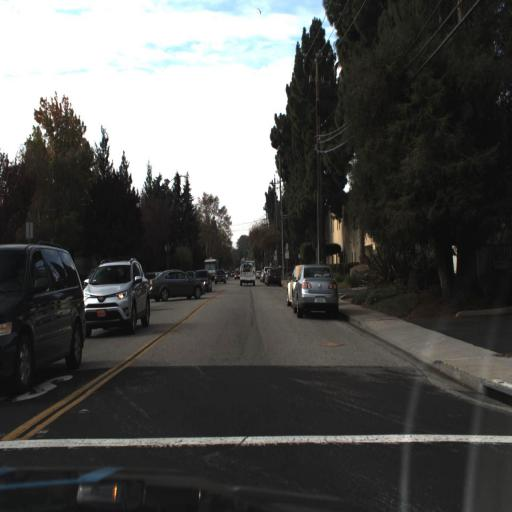car: (0, 244, 86, 386), (82, 253, 150, 332), (142, 264, 204, 303), (148, 266, 210, 302), (293, 264, 336, 314), (234, 253, 259, 290), (263, 263, 283, 288)
truck: (236, 258, 260, 294), (202, 255, 218, 276)
